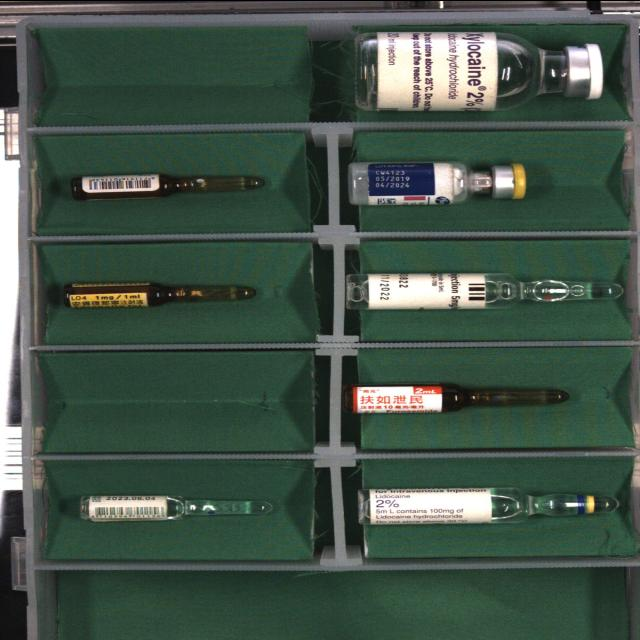Vials: (354, 30, 603, 110), (348, 161, 526, 204)
